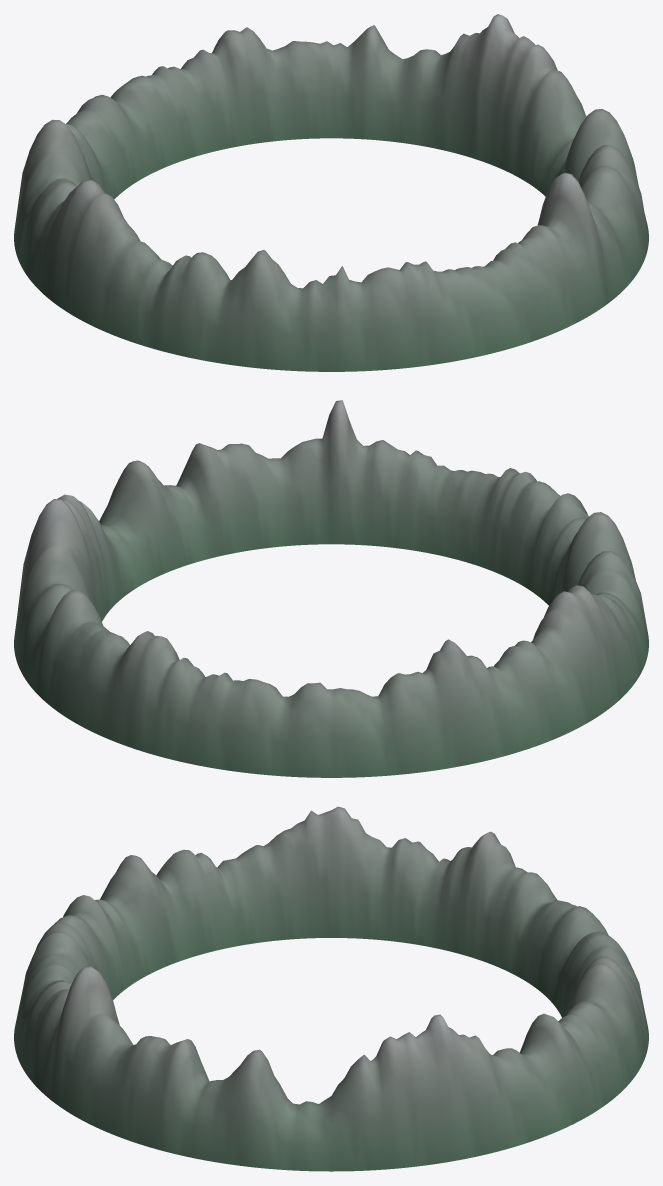
File: mountain.glb
3 views of the same model, one above another, from view 1: azimuth 30°, elevation 25°; view 2: azimuth 150°, elevation 25°; view 3: azimuth 270°, elevation 25° (orthographic).
Visible parts, largest first — view 1: MountainRange; view 2: MountainRange; view 3: MountainRange.
Boxes of the visible parts, box(x1,y1,x2,y2) form: MountainRange: box(14, 14, 648, 371); MountainRange: box(14, 400, 648, 777); MountainRange: box(14, 806, 648, 1171).
Bounding box in the file's own units: 54 × 12.06 × 54.
